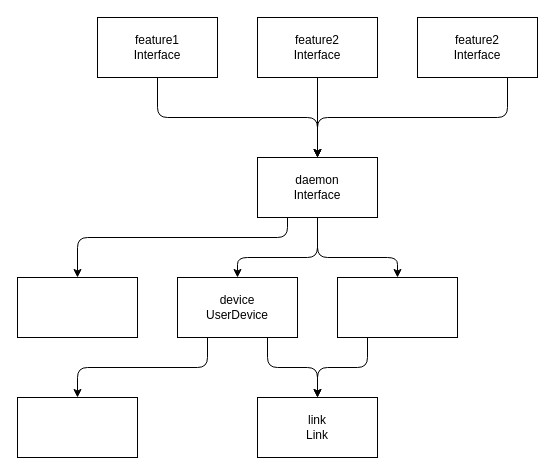
Some shapes in this 555 by 475 pixel diagram are drawn without their labels. Here are the shapes that lost their labels. From the top down, the centre of each, then its label:
the point at 77,307: wg Interface
the point at 397,307: device KernelDevice
the point at 77,427: wireguard-go Device
